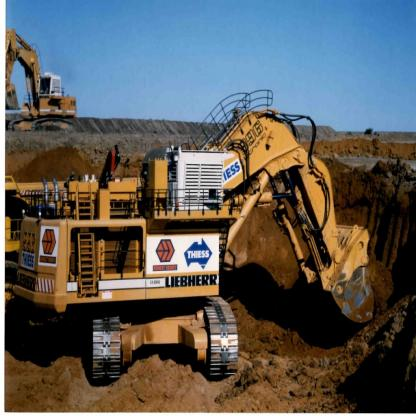excavator: (5, 94, 390, 392), (7, 24, 93, 142)
